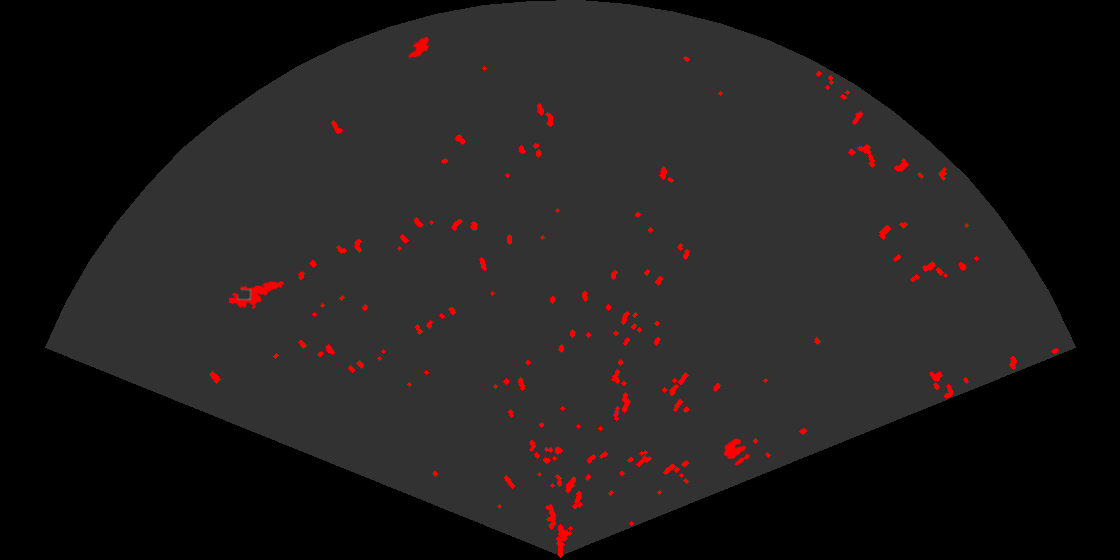AUV: (407, 35, 431, 60)
ball: (722, 437, 752, 467)
frogman: (229, 280, 284, 311)
